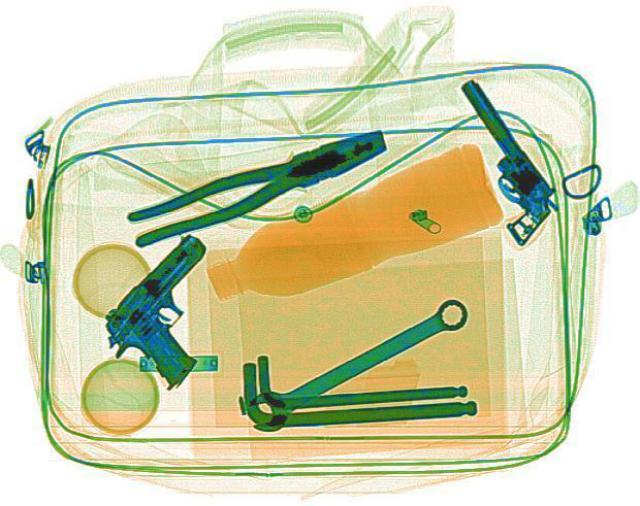Gun: (75, 227, 278, 390), (420, 74, 578, 243)
Pliers: (113, 123, 397, 248)
Wrench: (232, 292, 483, 433)
